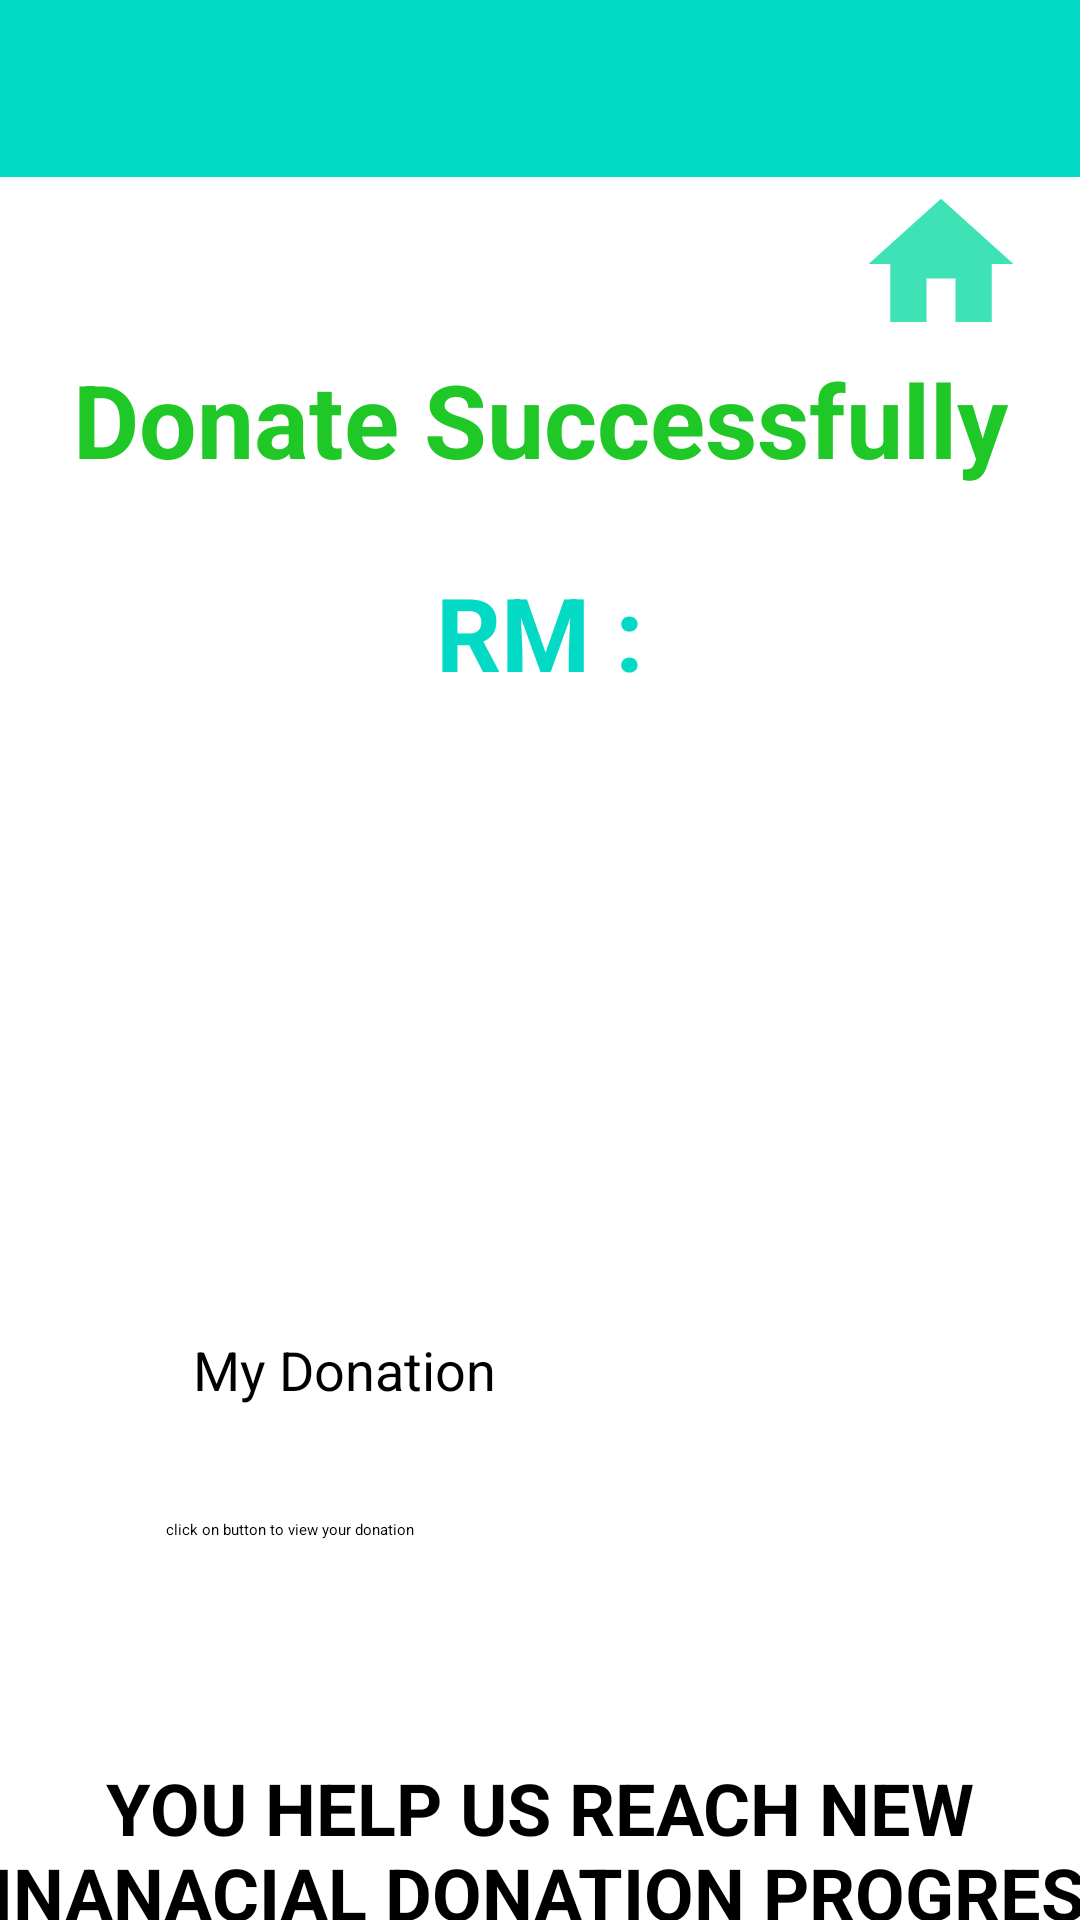

Screen size 1080×1920. Icon name, then its box in pixels as (x1, y1, x2, y2):
home: (869, 199, 1013, 322)
